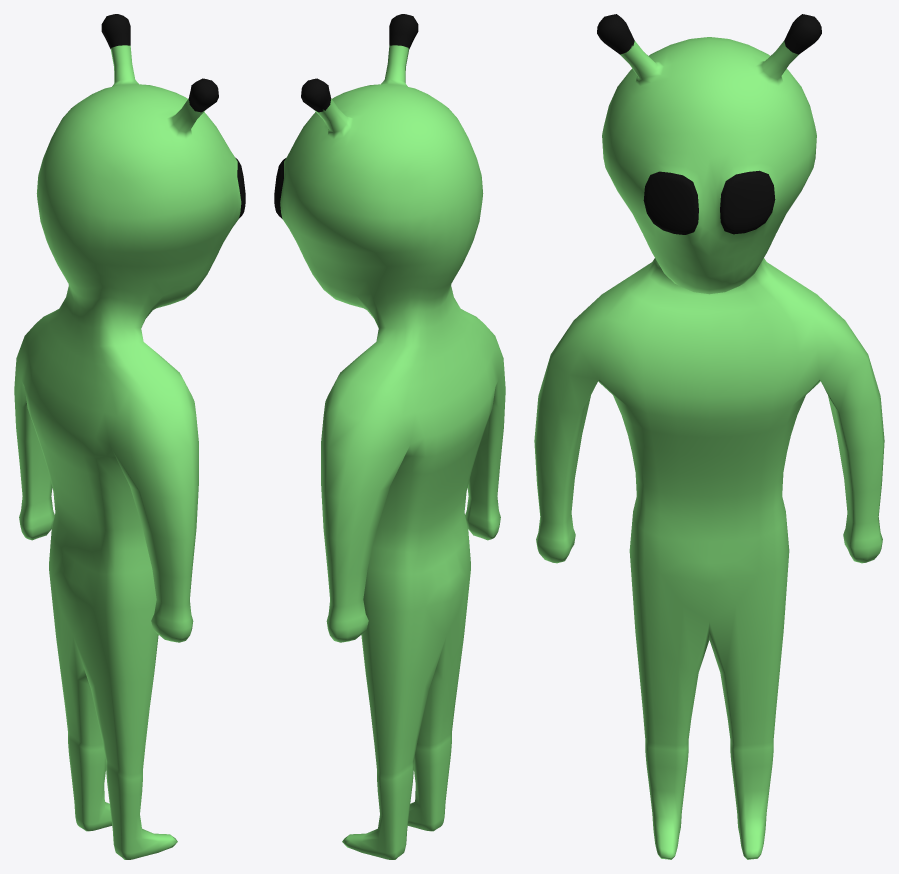
Rendered from Alien model.fbx.
3 renders of one model, left to right at view 1: azimuth 30°, elevation 25°; view 2: azimuth 150°, elevation 25°; view 3: azimuth 270°, elevation 25°, orthographic. The views are drawn at different scales.
Visible parts, largest first — view 1: pCube1; view 2: pCube1; view 3: pCube1.
Boxes of the visible parts, left/top/right/bottom form: pCube1: left=14, top=14, right=245, bottom=859; pCube1: left=274, top=14, right=505, bottom=859; pCube1: left=534, top=14, right=884, bottom=859.
Size of the model in its own units: 0.7972 by 3.29 by 1.23.
Materials: 1 (1 with a texture image).
